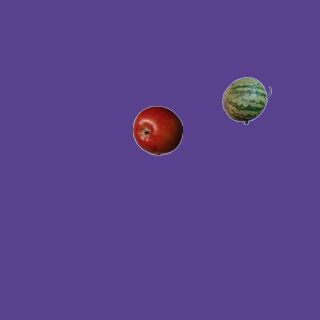Apple Braeburn: (132, 105, 182, 155)
Watermelon: (221, 75, 271, 125)
